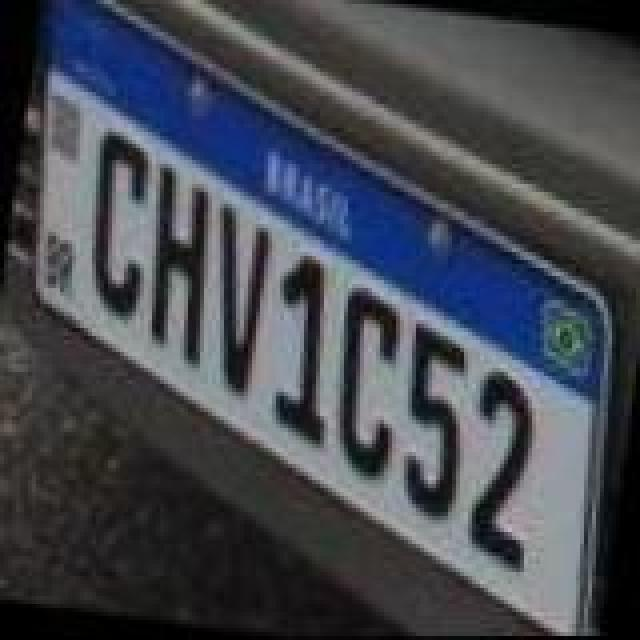1: (254, 250, 354, 450)
2: (452, 368, 552, 580)
5: (386, 318, 482, 522)
C: (316, 280, 416, 484), (78, 132, 166, 324)
H: (128, 162, 224, 374)
V: (188, 200, 276, 400)
